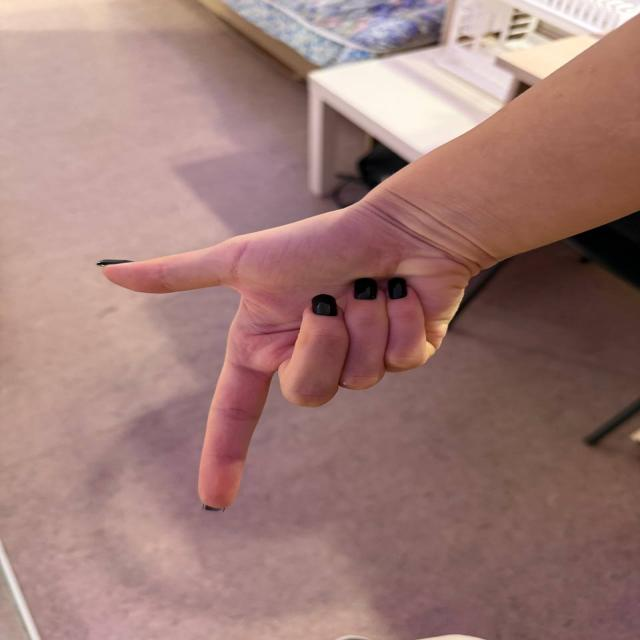g: (69, 220, 469, 520)
